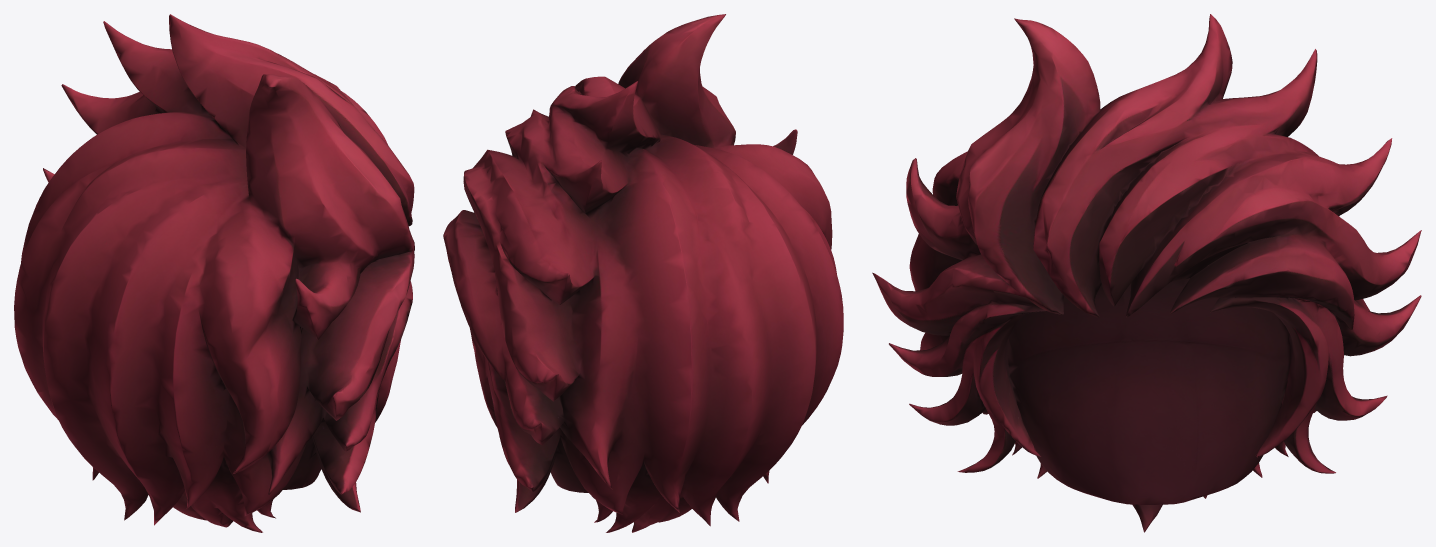
File: hair-raw.glb
The picture shows the model from 3 angles, left to right: view 1: azimuth 30°, elevation 25°; view 2: azimuth 150°, elevation 25°; view 3: azimuth 270°, elevation 25°; orthographic projection. The views are drawn at different scales.
Visible parts, largest first — view 1: tripo_node_a2c27a51-523b-4d0e-a283-56a70ffead9e; view 2: tripo_node_a2c27a51-523b-4d0e-a283-56a70ffead9e; view 3: tripo_node_a2c27a51-523b-4d0e-a283-56a70ffead9e.
Boxes of the visible parts, left/top/right/bottom form: tripo_node_a2c27a51-523b-4d0e-a283-56a70ffead9e: left=14, top=14, right=414, bottom=532; tripo_node_a2c27a51-523b-4d0e-a283-56a70ffead9e: left=443, top=14, right=843, bottom=532; tripo_node_a2c27a51-523b-4d0e-a283-56a70ffead9e: left=872, top=14, right=1421, bottom=532.
Bounding box in the file's own units: 0.7228 × 0.9927 × 1.
1 material, 1 textured.
